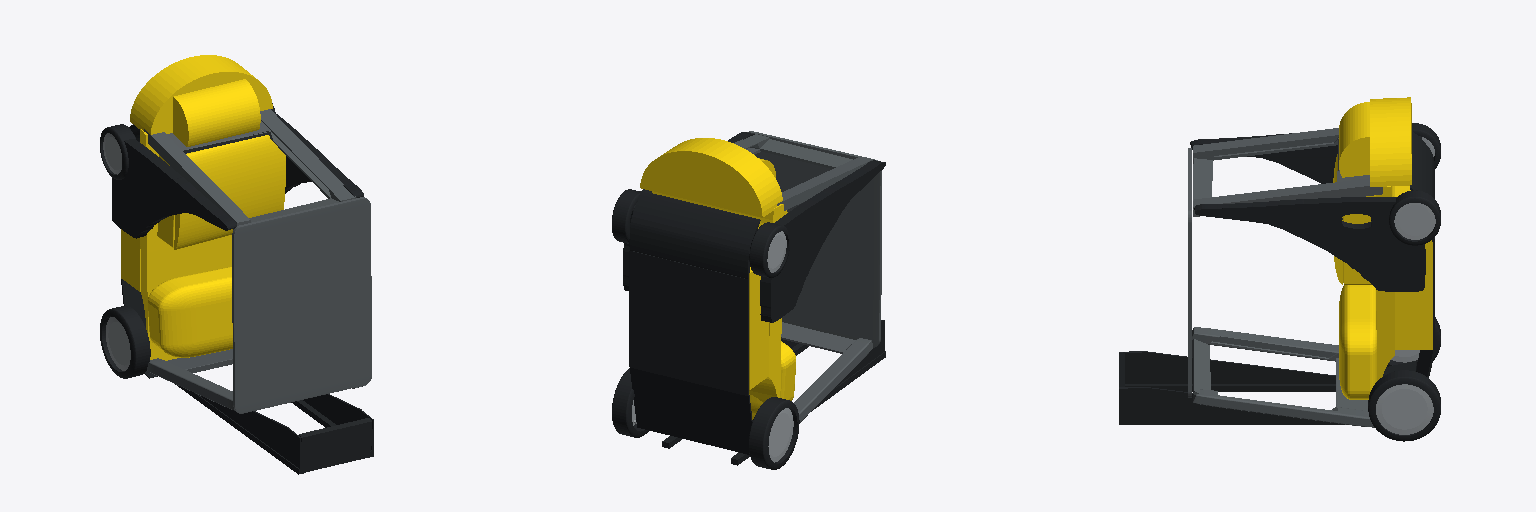
The model's file is monta.obj.
The picture shows the model from 3 angles: view 1: azimuth 30°, elevation 25°; view 2: azimuth 150°, elevation 25°; view 3: azimuth 270°, elevation 25°; orthographic projection.
Parts seen in each view (by area): view 1: obj_0; view 2: obj_0; view 3: obj_0.
Boxes of the visible parts, x1=… form: obj_0: x1=100, y1=55, x2=373, y2=474; obj_0: x1=612, y1=131, x2=885, y2=469; obj_0: x1=1119, y1=97, x2=1440, y2=441.
Bounding box in the file's own units: 86 × 160 × 155.